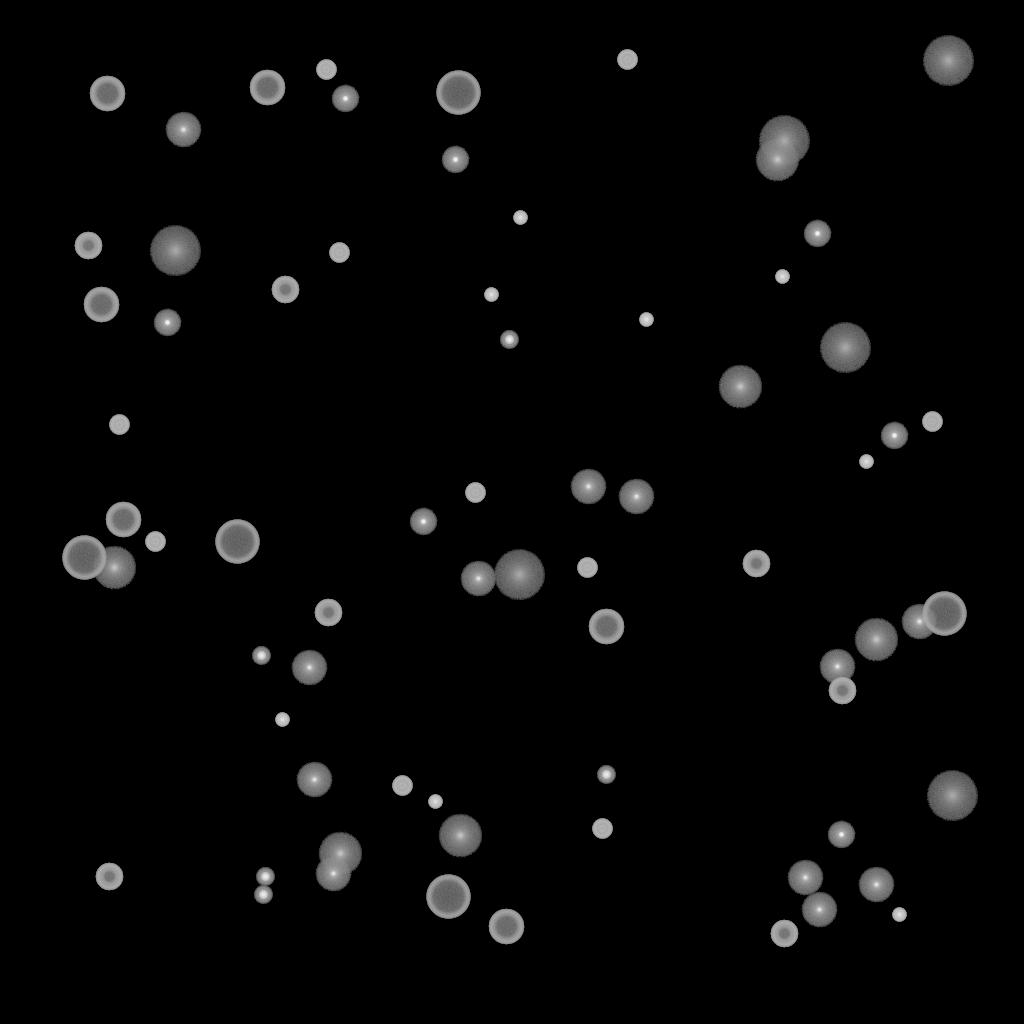depth:-10: (880, 422, 908, 450), (409, 508, 437, 536), (803, 220, 831, 248), (827, 821, 855, 849), (331, 85, 359, 113), (153, 309, 181, 337), (441, 146, 469, 174)
depth:-20: (252, 647, 270, 665), (500, 331, 518, 349), (256, 868, 274, 886), (254, 886, 272, 904), (597, 766, 615, 784)
depth:-30: (859, 455, 873, 469), (775, 270, 789, 284), (275, 713, 289, 727), (484, 288, 498, 302), (428, 795, 442, 809), (639, 313, 653, 327), (892, 908, 906, 922), (513, 211, 527, 225)
depth:-40: (316, 60, 336, 80), (922, 412, 942, 432), (592, 819, 612, 839), (145, 532, 165, 552), (465, 483, 485, 503), (392, 776, 412, 796), (577, 558, 597, 578), (329, 243, 349, 263), (109, 415, 129, 435), (617, 50, 637, 70)
depth:-50: (314, 599, 342, 627), (95, 863, 123, 891), (74, 232, 102, 260), (770, 920, 798, 948), (828, 677, 856, 705), (271, 276, 299, 304), (742, 550, 770, 578)
depth:-60: (249, 70, 285, 106), (105, 502, 141, 538), (83, 287, 119, 323), (488, 909, 524, 945), (588, 609, 624, 645), (89, 76, 125, 112)
depth:-70: (215, 520, 259, 564), (922, 592, 966, 636), (426, 875, 470, 919), (62, 536, 106, 580), (436, 71, 480, 115)
depth:0: (801, 892, 837, 928), (901, 604, 937, 640), (460, 561, 496, 597), (291, 650, 327, 686), (296, 762, 332, 798), (787, 860, 823, 896), (819, 649, 855, 685), (858, 867, 894, 903), (570, 469, 606, 505), (315, 856, 351, 892), (618, 479, 654, 515), (165, 112, 201, 148)
depth:10: (92, 546, 136, 590), (854, 618, 898, 662), (755, 138, 799, 182), (718, 365, 762, 409), (318, 832, 362, 876), (438, 814, 482, 858)
depth:20: (926, 771, 978, 821), (493, 550, 545, 600), (758, 116, 810, 166), (922, 36, 974, 86), (819, 323, 871, 373), (149, 226, 201, 276)
